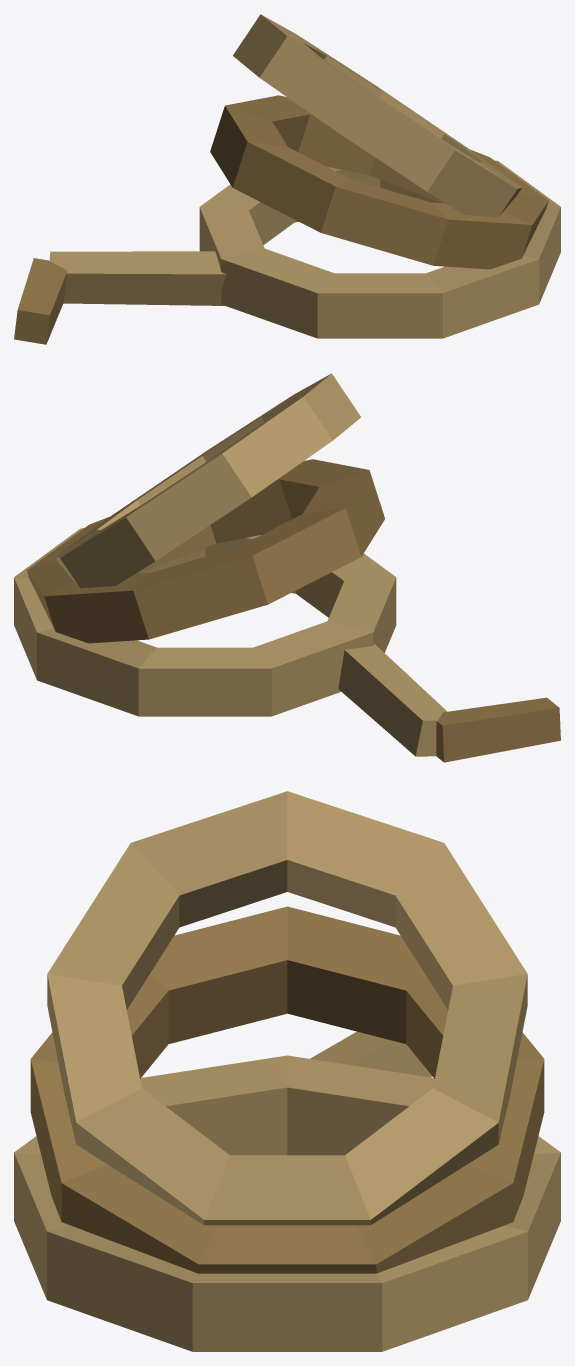
Rendered from Scatter_RopeCoil.fbx.
3 views of the same model, one above another, from view 1: azimuth 30°, elevation 25°; view 2: azimuth 150°, elevation 25°; view 3: azimuth 270°, elevation 25° (orthographic). The views are drawn at different scales.
Visible parts, largest first — view 1: RopeCoil; view 2: RopeCoil; view 3: RopeCoil.
Part boxes in pixels (x1,y1,x2,y2): RopeCoil: (14,14,560,344); RopeCoil: (14,373,560,762); RopeCoil: (14,791,560,1351).
Size of the model in its own units: 6.2 by 3.05 by 3.88.
